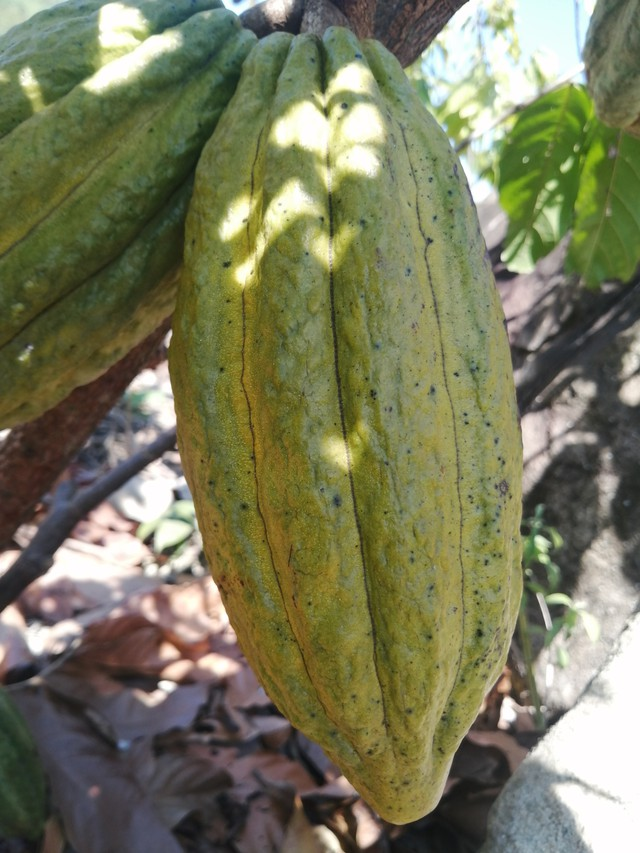Health: (132, 13, 554, 836)
